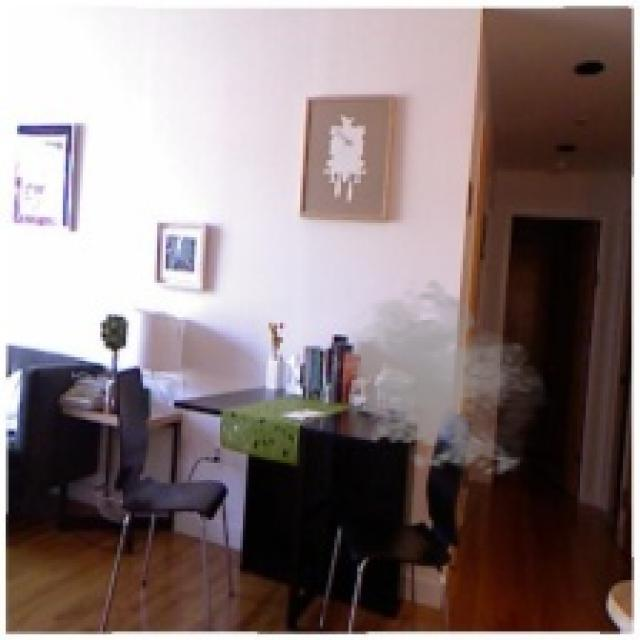smoke: (334, 277, 552, 480)
